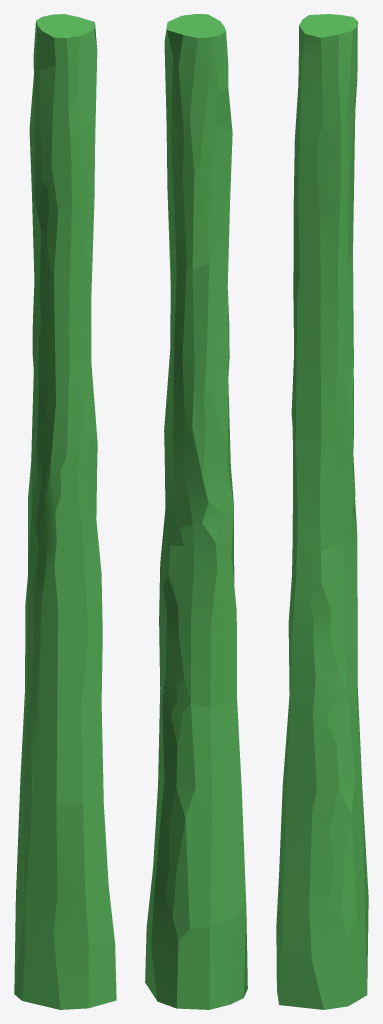
Rendered from jungle_tree_B.fbx.
The picture shows the model from 3 angles, left to right: view 1: azimuth 30°, elevation 25°; view 2: azimuth 210°, elevation 25°; view 3: azimuth 270°, elevation 25°; orthographic projection.
Parts seen in each view (by area): view 1: jungle_tree_B; view 2: jungle_tree_B; view 3: jungle_tree_B.
Part boxes in pixels (x1,y1,x2,y2): jungle_tree_B: (14,14,116,1009); jungle_tree_B: (145,14,247,1009); jungle_tree_B: (276,14,368,1009).
Size of the model in its own units: 80.33 by 906 by 78.45.
